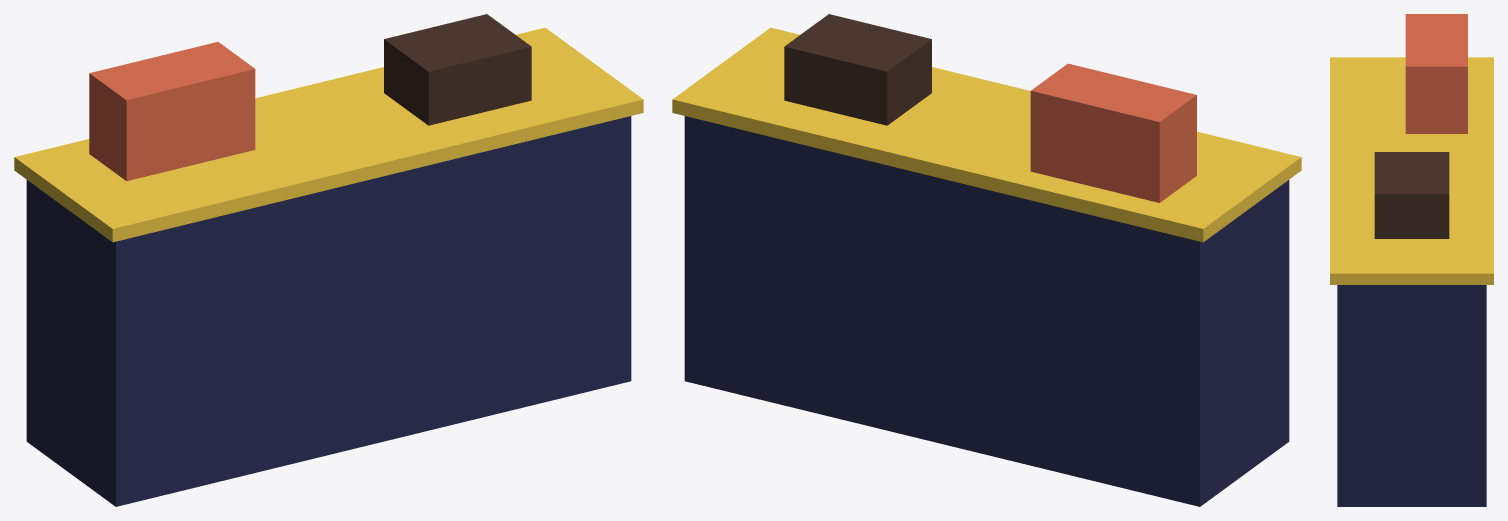
The model's file is counter.glb.
3 renders of one model, left to right at view 1: azimuth 30°, elevation 25°; view 2: azimuth 150°, elevation 25°; view 3: azimuth 270°, elevation 25°, orthographic. The views are drawn at different scales.
Parts seen in each view (by area): view 1: Box1, Box2, Box4, Box3; view 2: Box1, Box2, Box4, Box3; view 3: Box1, Box2, Box4, Box3.
Boxes of the visible parts, bbox=[...] form: Box1: bbox=[26, 116, 631, 506]; Box2: bbox=[14, 27, 643, 242]; Box4: bbox=[89, 42, 255, 181]; Box3: bbox=[384, 14, 531, 125]; Box1: bbox=[684, 116, 1289, 506]; Box2: bbox=[672, 27, 1301, 242]; Box4: bbox=[1030, 63, 1196, 202]; Box3: bbox=[784, 14, 931, 125]; Box1: bbox=[1337, 285, 1486, 506]; Box2: bbox=[1330, 57, 1493, 284]; Box4: bbox=[1405, 14, 1467, 133]; Box3: bbox=[1374, 152, 1449, 238].
Bounding box in the file's own units: 2.06 × 1.35 × 0.66.
